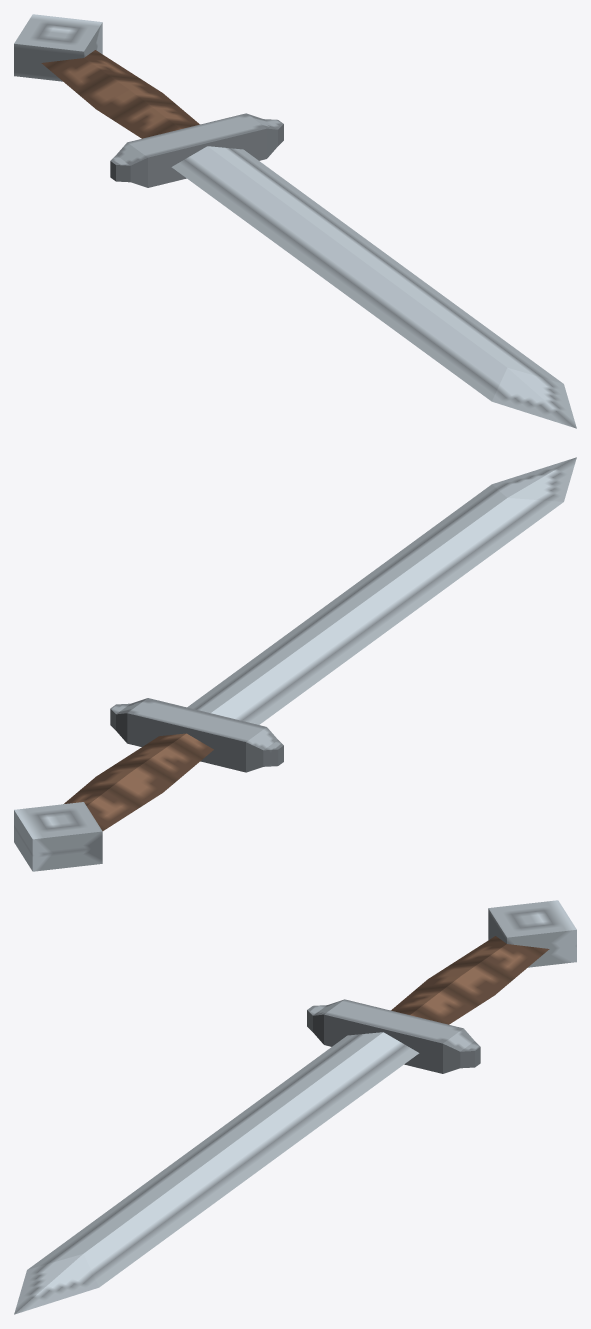
The model's file is Dagger.fbx.
3 renders of one model, top to bottom at view 1: azimuth 30°, elevation 25°; view 2: azimuth 150°, elevation 25°; view 3: azimuth 330°, elevation 25°, orthographic.
Parts seen in each view (by area): view 1: Dagger; view 2: Dagger; view 3: Dagger.
Boxes of the visible parts, x1,y1,x2,y2 form: Dagger: (14, 14, 576, 428); Dagger: (14, 457, 576, 871); Dagger: (14, 900, 576, 1314).
Size of the model in its own units: 12 by 2.21 by 67.36.
